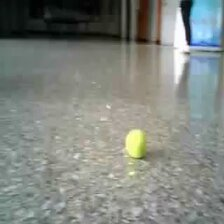tennis: (126, 129, 147, 158)
